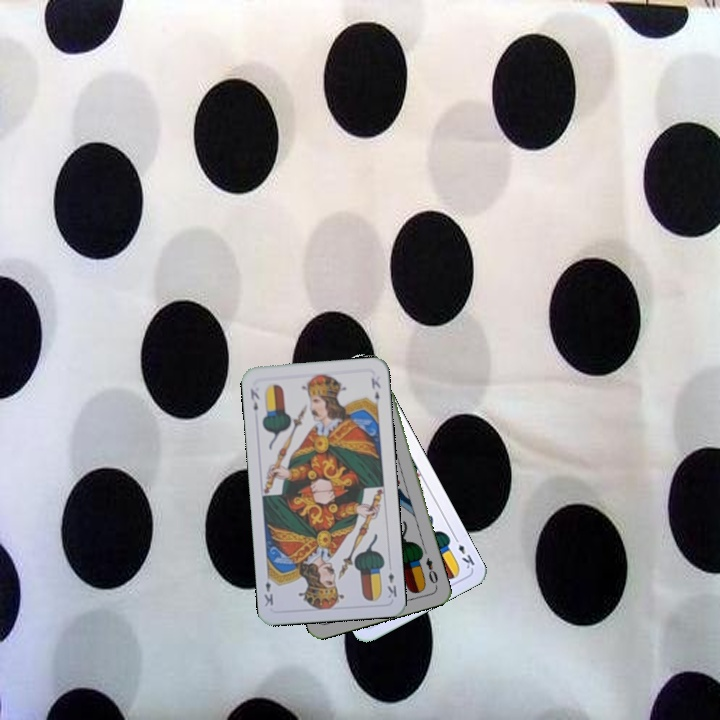EK: (450, 532, 477, 571), (383, 568, 399, 601), (246, 385, 262, 413)
EO: (422, 554, 440, 586)
